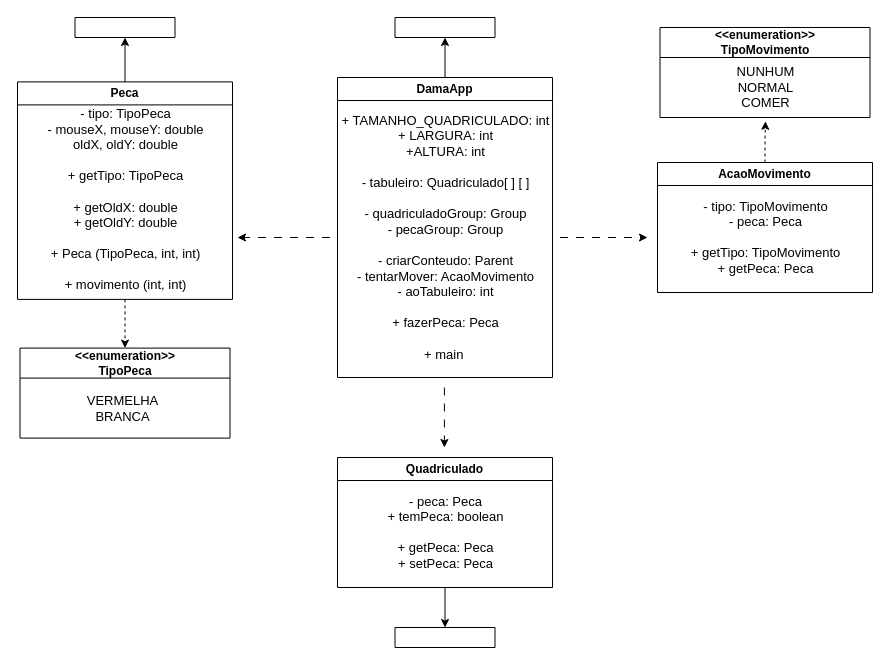
This 890x665 diagram has some shape labels left out. The shapes that lost their labels are listed below. From the top down, each one's centre as x and y in pixels, then its label:
At (124,27): "StackPane".
At (444,27): "Application".
At (444,637): "Rectangle".
